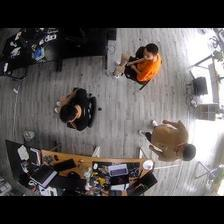normal: (138, 117, 197, 162), (111, 41, 164, 85), (54, 85, 98, 130)
